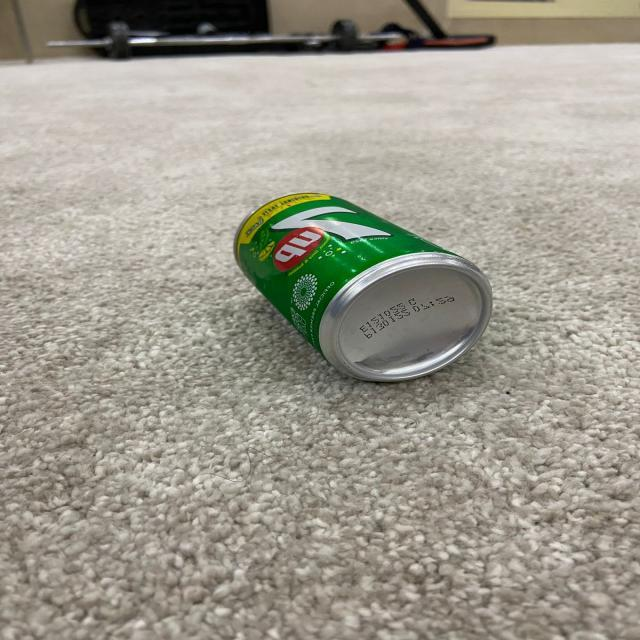can: (230, 187, 494, 385)
